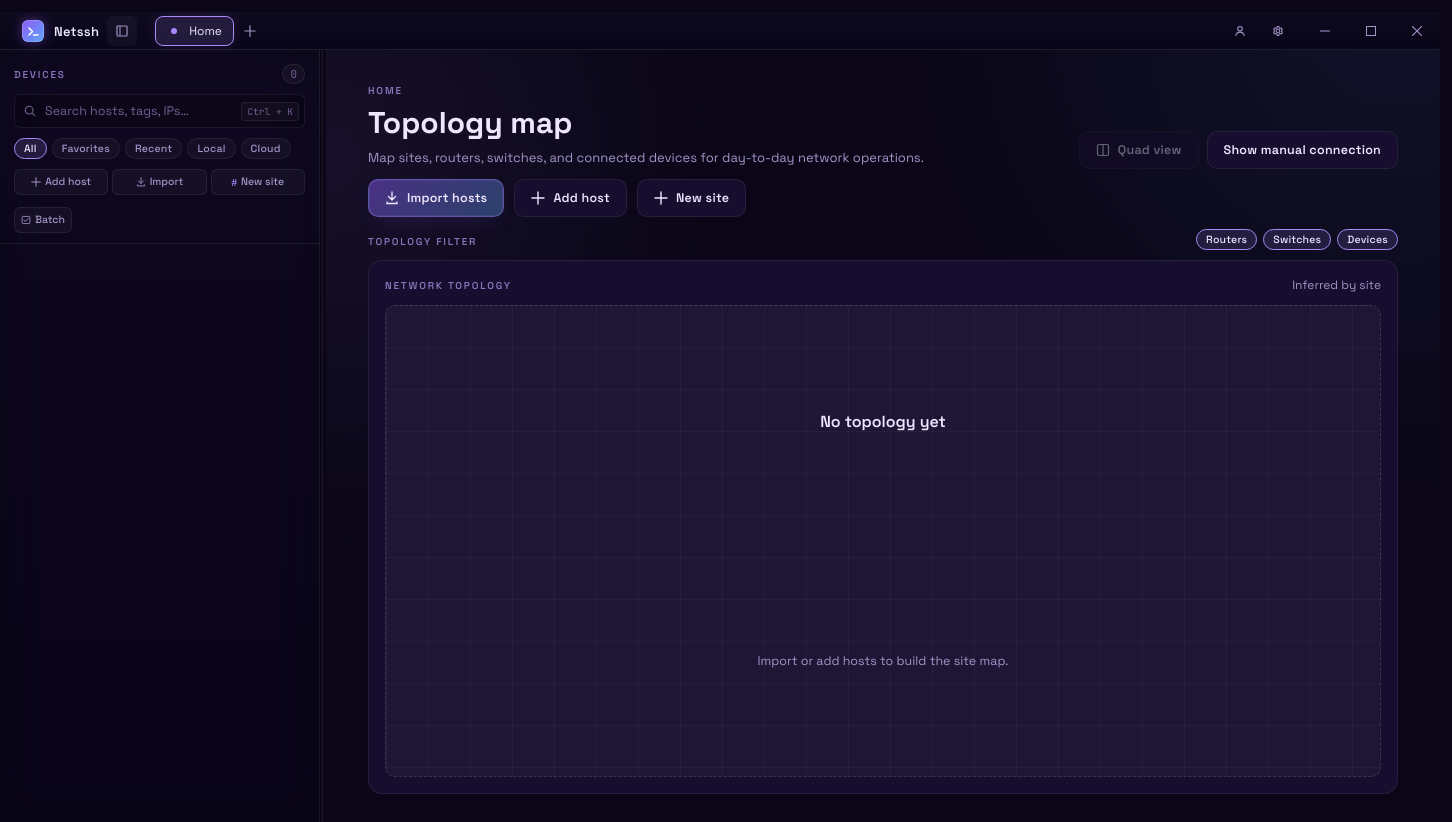
it: 2. TitleBar › settings icon button opens settings nav
Click the button titled "Settings" at (1278, 31), box [1262,16,1294,46]
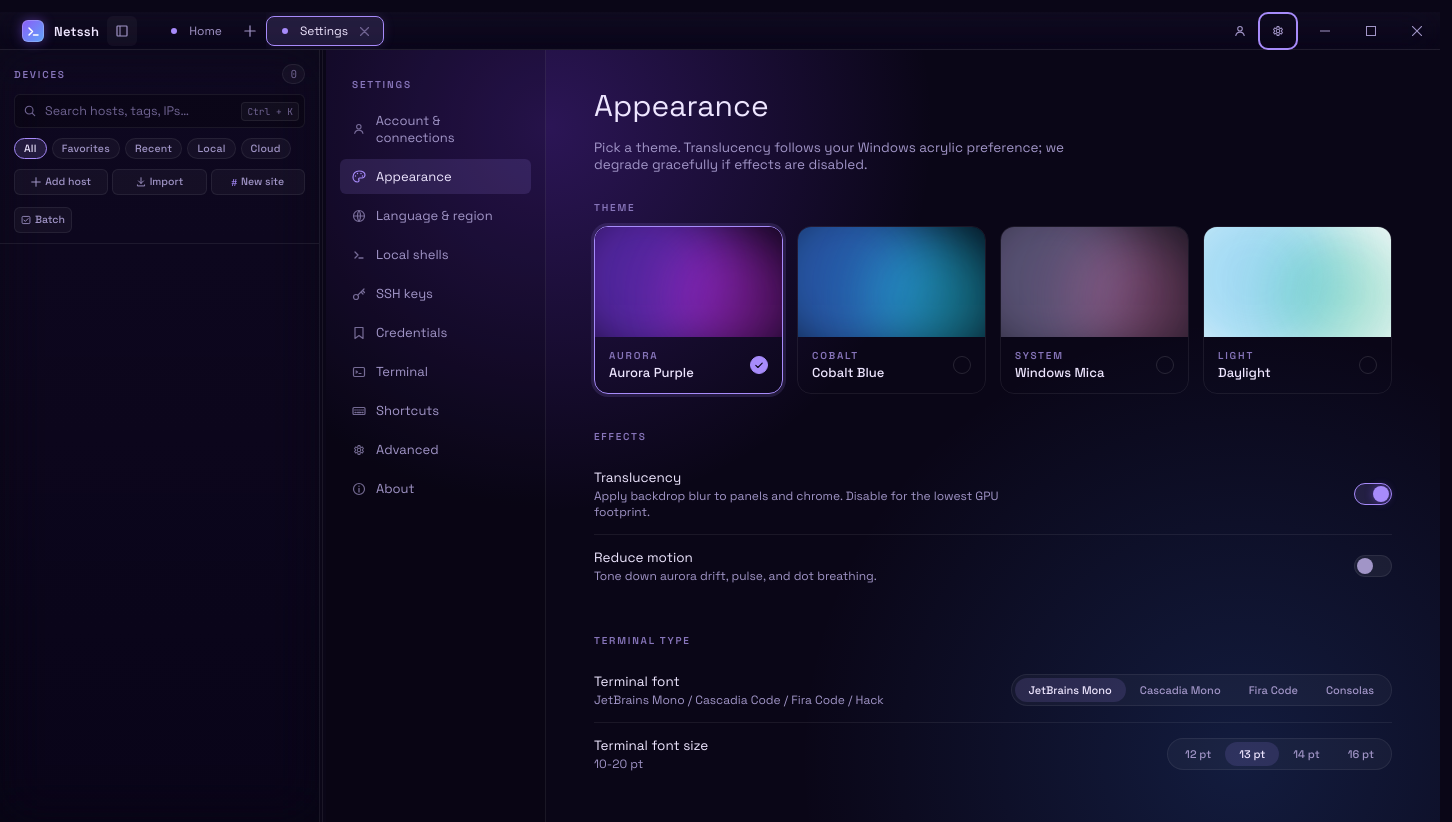
Now the navigation bar with class "settings-nav" is shown, box [326,50,546,821]
